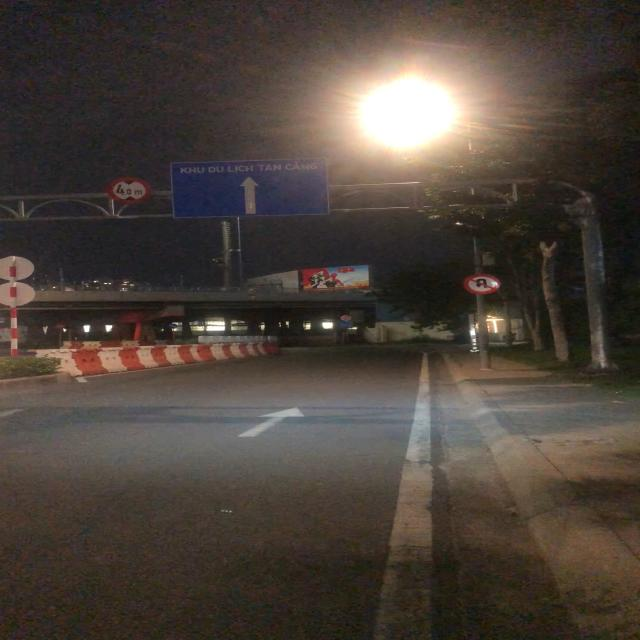Bien bao cam quay dau xe: (464, 272, 502, 296)
Bien bao han che chieu cao: (105, 176, 153, 205)
